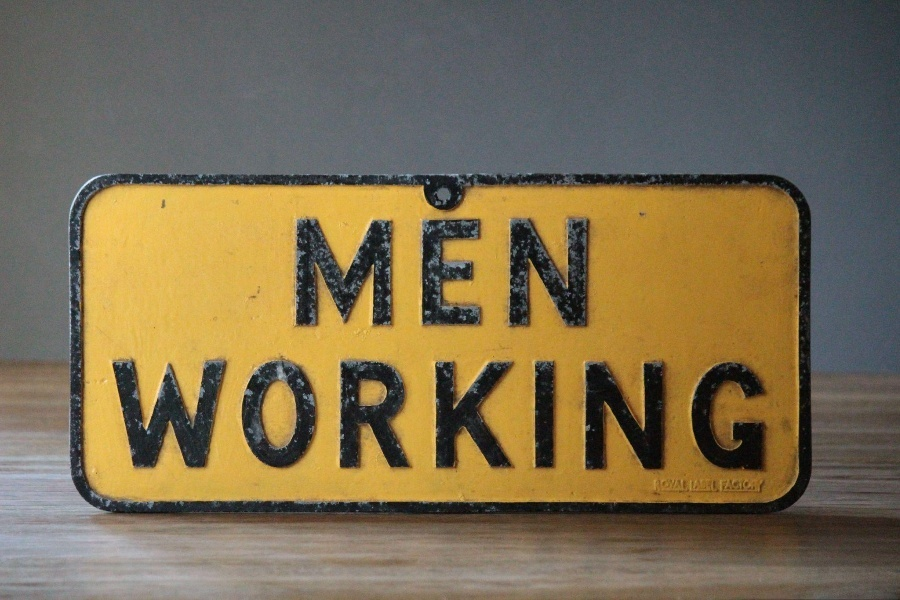text: (113, 357, 128, 473), (129, 357, 144, 473), (145, 357, 160, 473), (161, 357, 176, 473), (177, 357, 192, 473), (193, 357, 208, 473), (209, 357, 224, 473), (225, 357, 240, 473), (241, 357, 256, 473), (257, 357, 272, 473), (273, 357, 288, 473), (289, 357, 304, 473), (305, 357, 320, 473), (321, 357, 336, 473), (337, 357, 352, 473), (353, 357, 368, 473), (369, 357, 384, 473), (385, 357, 400, 473), (401, 357, 416, 473), (417, 357, 432, 473), (433, 357, 448, 473), (449, 357, 464, 473), (465, 357, 480, 473), (481, 357, 496, 473), (497, 357, 512, 473), (513, 357, 528, 473), (529, 357, 544, 473), (545, 357, 560, 473), (561, 357, 576, 473), (577, 357, 592, 473), (593, 357, 608, 473), (609, 357, 624, 473), (625, 357, 640, 473), (641, 357, 656, 473), (657, 357, 672, 473), (673, 357, 688, 473), (689, 357, 704, 473), (705, 357, 720, 473), (721, 357, 736, 473), (737, 357, 752, 473), (305, 217, 320, 330), (321, 217, 336, 330), (337, 217, 352, 330), (353, 217, 368, 330), (369, 217, 384, 330), (385, 217, 400, 330), (401, 217, 416, 330), (417, 217, 432, 330), (433, 217, 448, 330), (449, 217, 464, 330), (465, 217, 480, 330), (481, 217, 496, 330), (497, 217, 512, 330), (513, 217, 528, 330), (529, 217, 544, 330), (545, 217, 560, 330), (561, 217, 576, 330), (577, 217, 592, 330), (753, 357, 766, 473), (294, 217, 304, 330), (673, 479, 689, 494), (110, 357, 112, 473), (657, 479, 672, 494), (721, 479, 736, 493), (737, 479, 752, 493), (689, 480, 704, 492), (705, 480, 718, 492), (753, 479, 764, 493), (653, 479, 656, 494)
